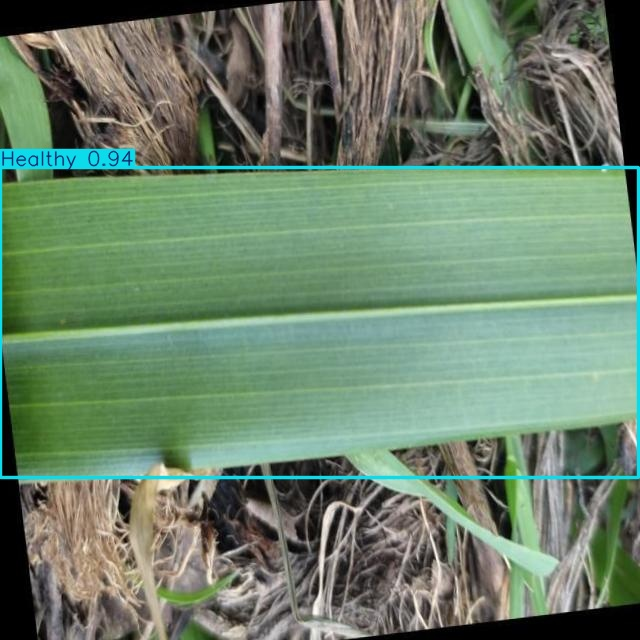Healthy: (0, 167, 638, 477)
